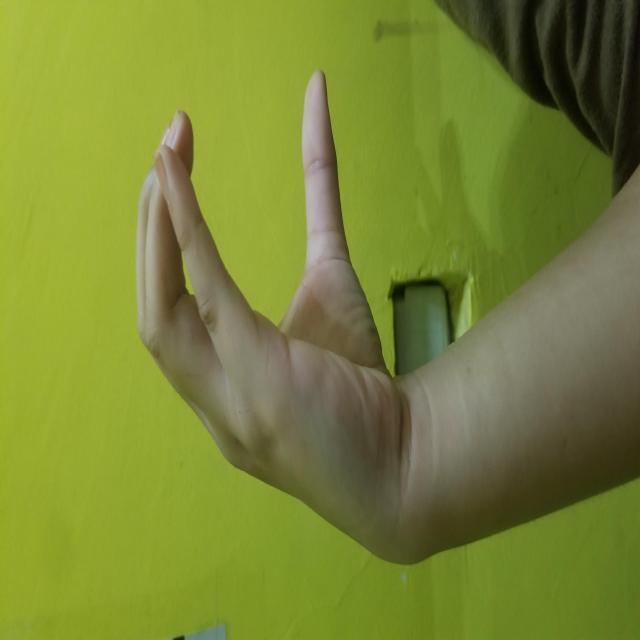C: (93, 134, 568, 391)
